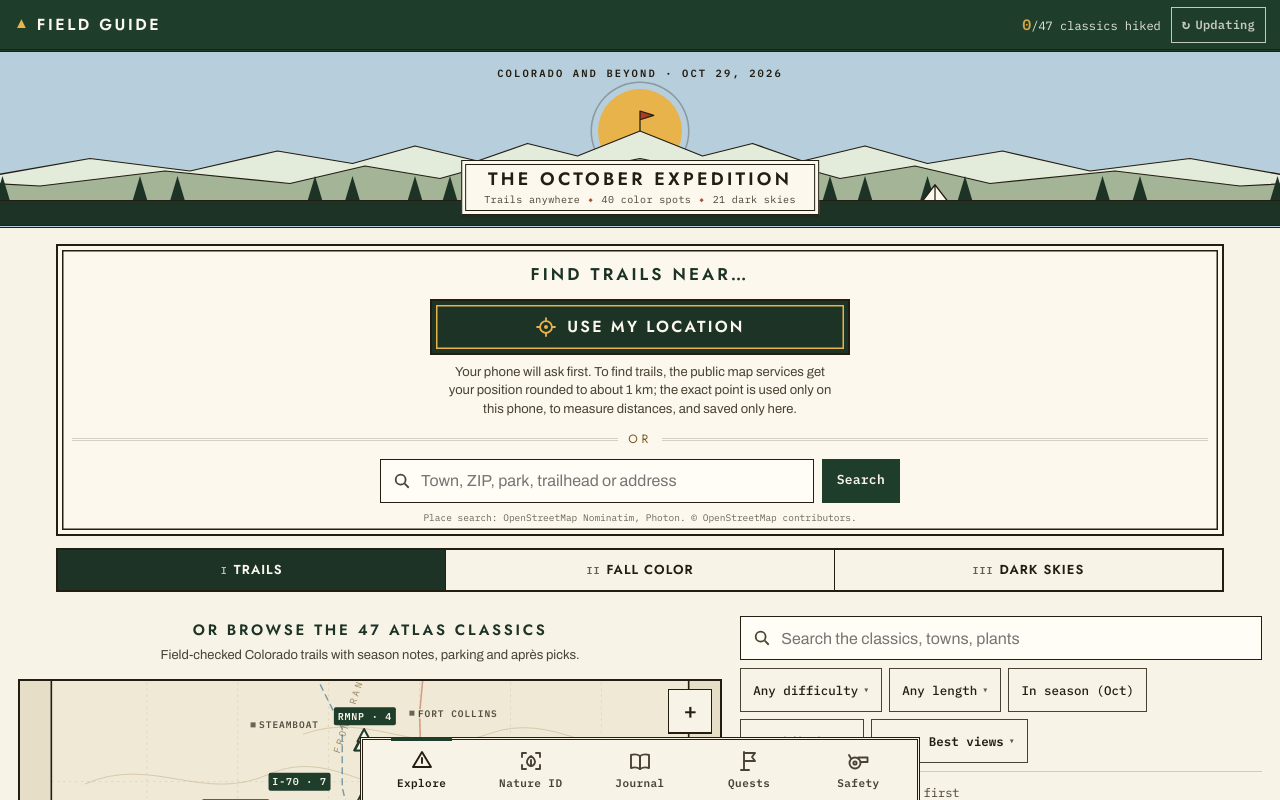
Scenario: location-first discovery › a failed address lookup says why and offers the way back
The image size is (1280, 800).
In the search field named "address or place": coordinates (614, 481) [419,460,809,502], type "Estes Park"
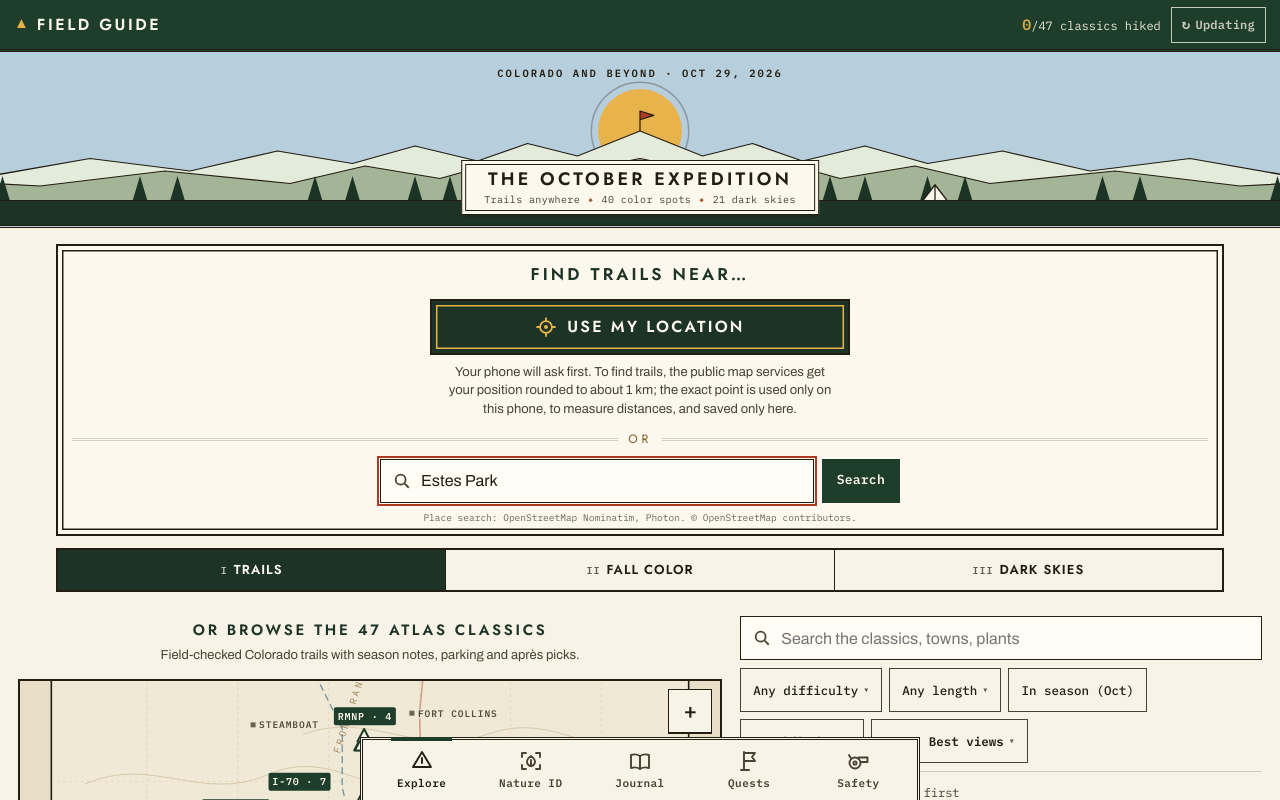
Click the button "Search": coordinates (861, 481) [822,459,900,503]
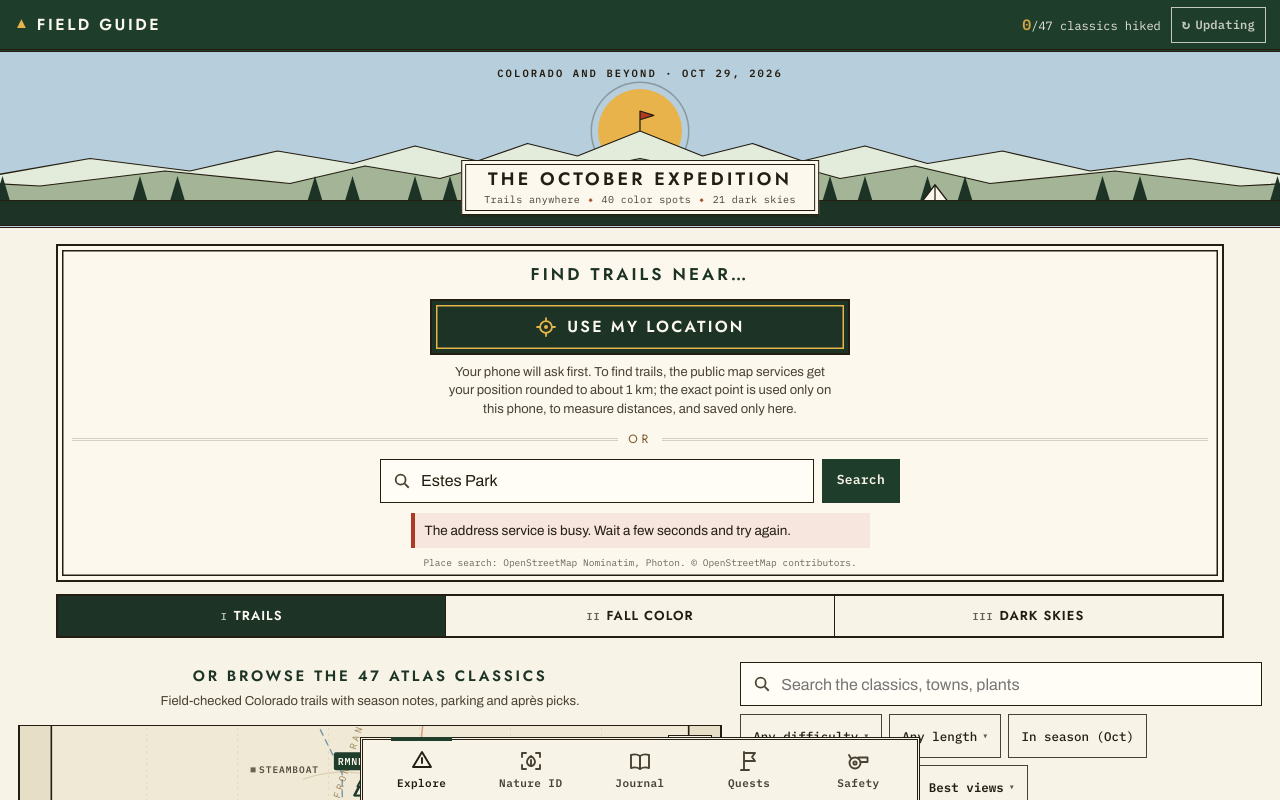
Check: the message shows "busy", box [424,523,791,538]
